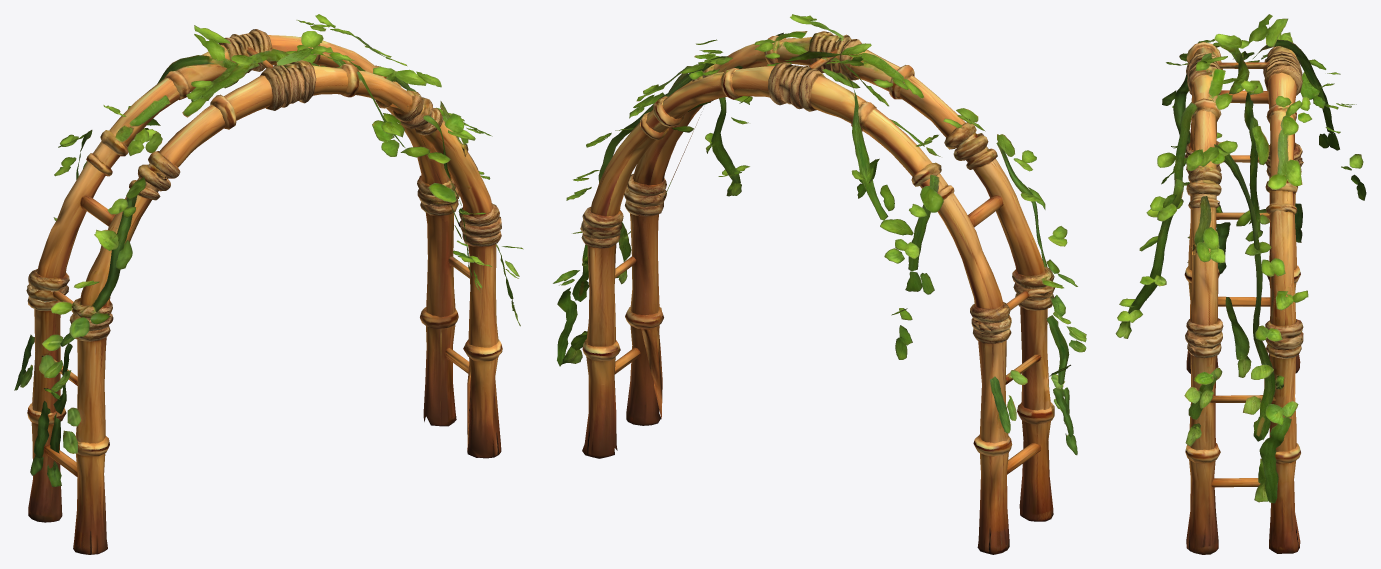
File: Meshy_AI_Vine_Clad_Bamboo_Arch_0721143529_texture.fbx
The picture shows the model from 3 angles, left to right: view 1: azimuth 30°, elevation 25°; view 2: azimuth 150°, elevation 25°; view 3: azimuth 270°, elevation 25°; orthographic projection. The views are drawn at different scales.
Parts seen in each view (by area): view 1: mesh_node; view 2: mesh_node; view 3: mesh_node.
Part boxes in pixels (x1,y1,x2,y2): mesh_node: (14, 14, 523, 554); mesh_node: (553, 14, 1086, 554); mesh_node: (1115, 14, 1366, 554).
Size of the model in its own units: 99.8 by 87.7 by 47.56.
1 material, 1 textured.
